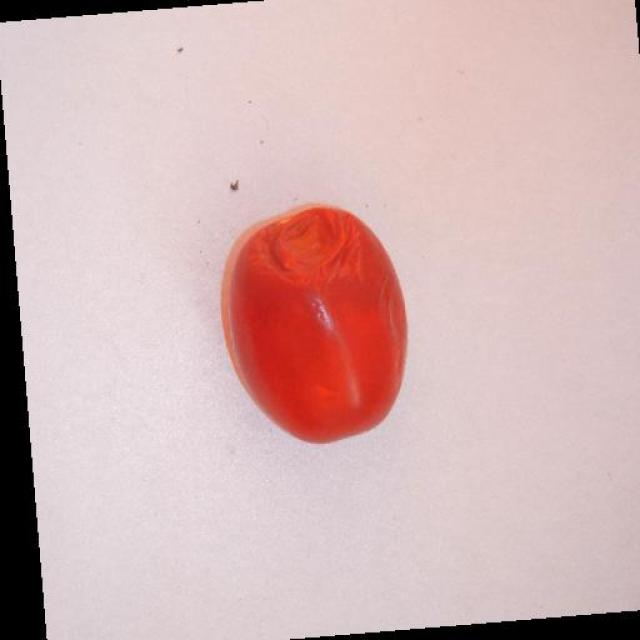Stale_tomato: (219, 223, 380, 415)
